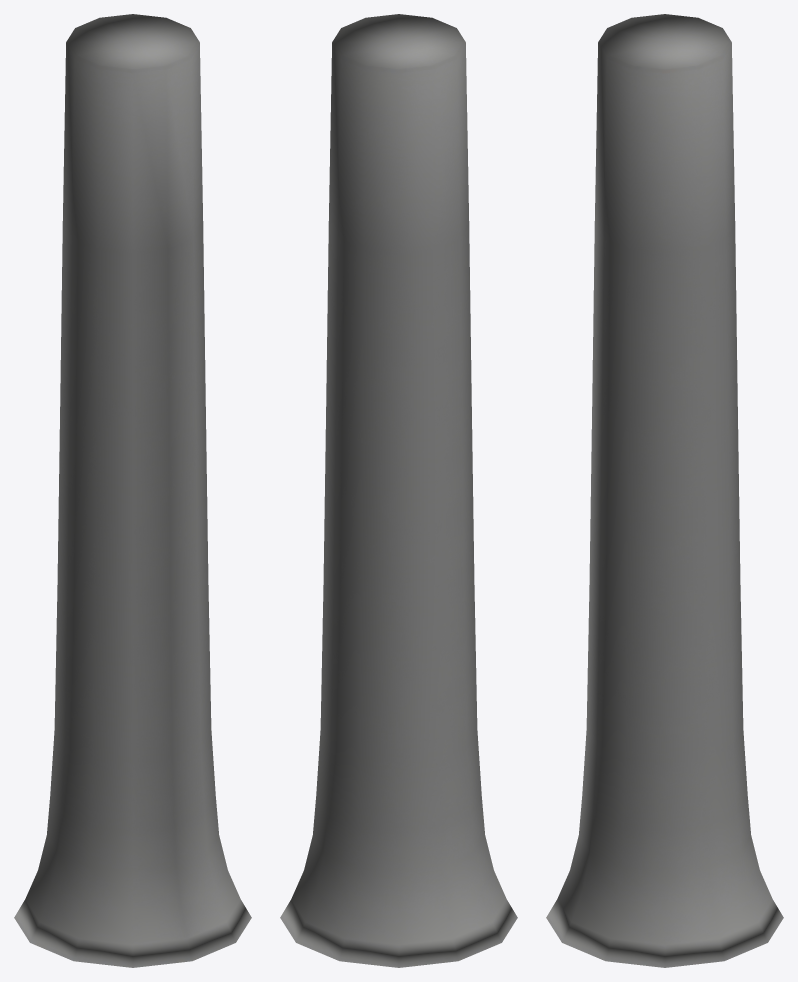
Rendered from oak-trunk-unit-tripo-original.glb.
3 views of the same model, side by side, from view 1: azimuth 30°, elevation 25°; view 2: azimuth 150°, elevation 25°; view 3: azimuth 270°, elevation 25° (orthographic).
Parts seen in each view (by area): view 1: Authored_surface; view 2: Authored_surface; view 3: Authored_surface.
Part boxes in pixels (x1=…): Authored_surface: x1=14, y1=14, x2=251, y2=967; Authored_surface: x1=280, y1=14, x2=517, y2=967; Authored_surface: x1=546, y1=14, x2=783, y2=967.
Bounding box in the file's own units: 0.2462 × 1 × 0.2462.
1 material, 1 textured.
